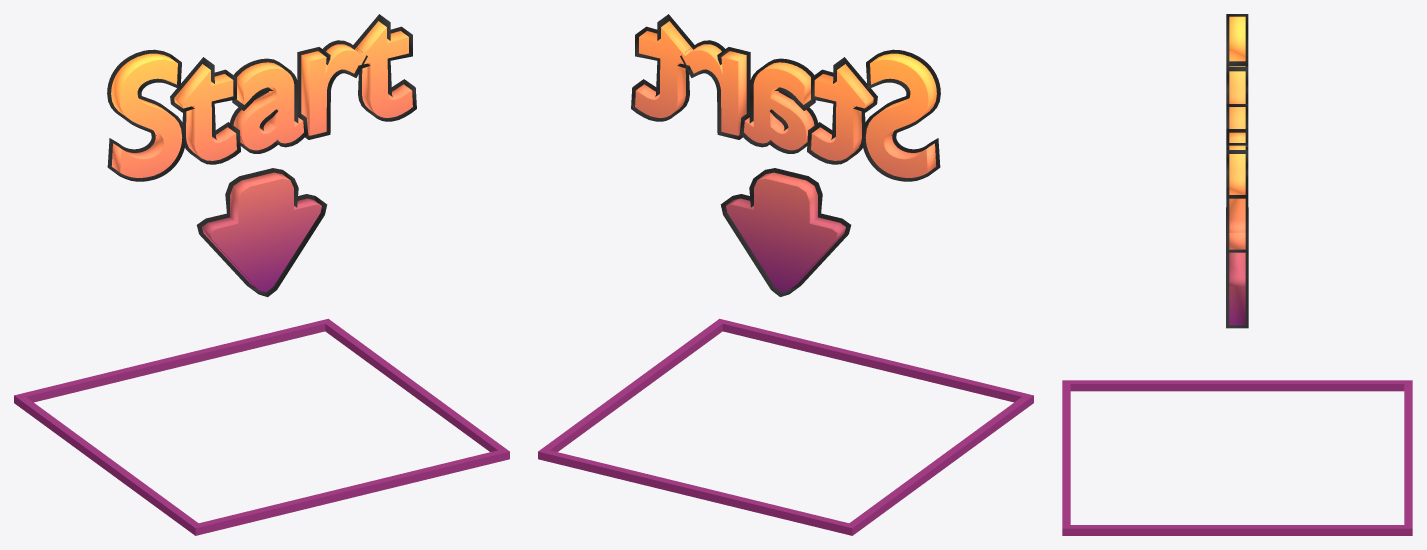
File: startSign.glb
3 views of the same model, side by side, from view 1: azimuth 30°, elevation 25°; view 2: azimuth 150°, elevation 25°; view 3: azimuth 270°, elevation 25° (orthographic). The views are drawn at different scales.
Parts seen in each view (by area): view 1: Start, Border.001, ArrowDown, StartOutline, ArrowDownOutline; view 2: Start, Border.001, ArrowDown, StartOutline, ArrowDownOutline; view 3: Border.001, Start, StartOutline, ArrowDown, ArrowDownOutline.
Part boxes in pixels (x1=…): Start: x1=111, y1=21, x2=412, y2=177; Border.001: x1=14, y1=318, x2=509, y2=535; ArrowDown: x1=202, y1=172, x2=321, y2=292; StartOutline: x1=107, y1=14, x2=416, y2=181; ArrowDownOutline: x1=196, y1=168, x2=327, y2=297; Start: x1=635, y1=21, x2=936, y2=177; Border.001: x1=538, y1=318, x2=1033, y2=535; ArrowDown: x1=726, y1=172, x2=845, y2=292; StartOutline: x1=631, y1=14, x2=940, y2=181; ArrowDownOutline: x1=720, y1=168, x2=851, y2=296; Border.001: x1=1062, y1=380, x2=1412, y2=535; Start: x1=1229, y1=16, x2=1245, y2=249; StartOutline: x1=1226, y1=14, x2=1248, y2=252; ArrowDown: x1=1229, y1=252, x2=1245, y2=324; ArrowDownOutline: x1=1226, y1=207, x2=1248, y2=328.
Size of the model in its own units: 3.21 by 3.94 by 3.21.
Materials: 1 (1 with a texture image).
